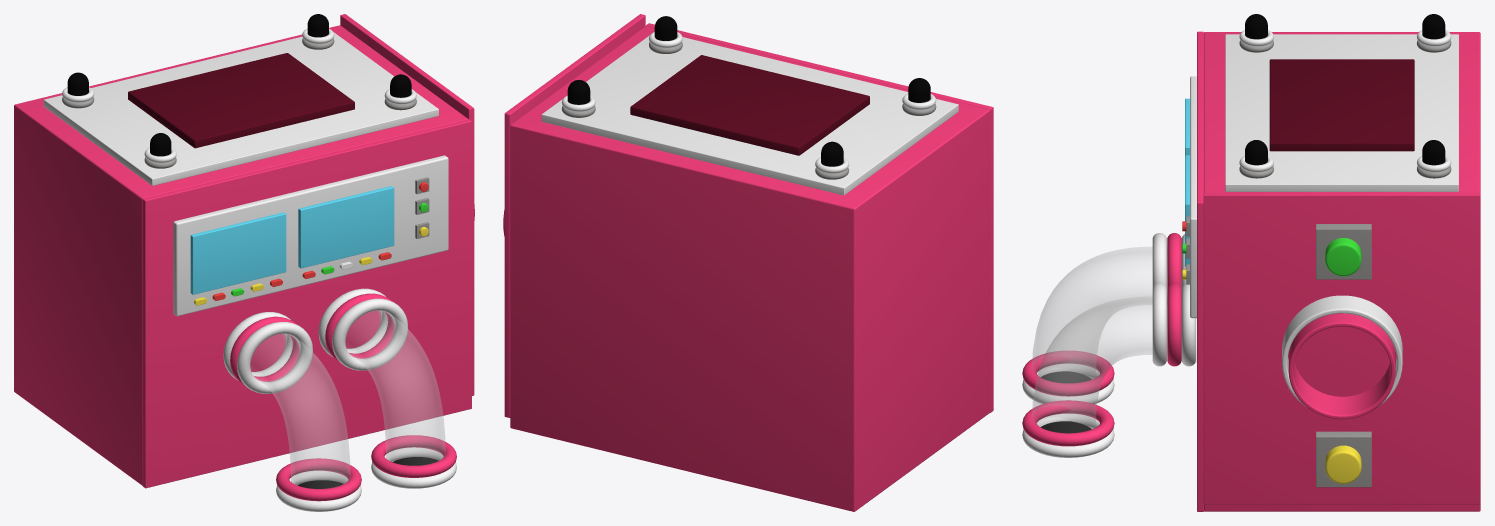
The model's file is machine3.fbx.
3 renders of one model, left to right at view 1: azimuth 30°, elevation 25°; view 2: azimuth 150°, elevation 25°; view 3: azimuth 270°, elevation 25°, orthographic. The views are drawn at different scales.
Visible parts, largest first — view 1: Obj3d66-9320056-645-792, Obj3d66-9320056-646-365, Obj3d66-9320056-643-665, Obj3d66-9320056-642-184, Obj3d66-9320056-559-233, Obj3d66-9320056-568-934, Obj3d66-9320056-576-592, Obj3d66-9320056-641-361, Obj3d66-9320056-640-992, Obj3d66-9320056-644-142, Obj3d66-9320056-573-920, Obj3d66-9320056-581-375 (+8 smaller); view 2: Obj3d66-9320056-646-365, Obj3d66-9320056-643-665, Obj3d66-9320056-559-233, Obj3d66-9320056-644-142, Obj3d66-9320056-645-792; view 3: Obj3d66-9320056-644-142, Obj3d66-9320056-643-665, Obj3d66-9320056-559-233, Obj3d66-9320056-646-365, Obj3d66-9320056-568-934, Obj3d66-9320056-576-592, Obj3d66-9320056-566-623, Obj3d66-9320056-645-792, Obj3d66-9320056-567-712, Obj3d66-9320056-571-896, Obj3d66-9320056-579-243, Obj3d66-9320056-561-256 (+15 smaller).
Boxes of the visible parts, x1,y1,x2,y2 form: Obj3d66-9320056-645-792: [142, 119, 471, 488]; Obj3d66-9320056-646-365: [14, 25, 467, 485]; Obj3d66-9320056-643-665: [43, 32, 438, 185]; Obj3d66-9320056-642-184: [173, 155, 448, 316]; Obj3d66-9320056-559-233: [128, 53, 354, 148]; Obj3d66-9320056-568-934: [345, 311, 445, 465]; Obj3d66-9320056-576-592: [250, 334, 350, 488]; Obj3d66-9320056-641-361: [190, 212, 286, 294]; Obj3d66-9320056-640-992: [298, 186, 394, 268]; Obj3d66-9320056-644-142: [340, 14, 474, 395]; Obj3d66-9320056-573-920: [332, 298, 407, 370]; Obj3d66-9320056-581-375: [237, 322, 312, 393]; Obj3d66-9320056-646-365: [510, 26, 990, 511]; Obj3d66-9320056-643-665: [541, 35, 958, 195]; Obj3d66-9320056-559-233: [630, 55, 869, 155]; Obj3d66-9320056-644-142: [504, 14, 645, 417]; Obj3d66-9320056-645-792: [646, 23, 993, 412]; Obj3d66-9320056-644-142: [1203, 192, 1480, 504]; Obj3d66-9320056-643-665: [1225, 34, 1458, 191]; Obj3d66-9320056-559-233: [1269, 59, 1414, 151]; Obj3d66-9320056-646-365: [1204, 32, 1480, 511]; Obj3d66-9320056-568-934: [1032, 297, 1196, 432]; Obj3d66-9320056-576-592: [1032, 247, 1152, 378]; Obj3d66-9320056-566-623: [1288, 313, 1395, 419]; Obj3d66-9320056-645-792: [1197, 31, 1203, 511]; Obj3d66-9320056-567-712: [1282, 295, 1402, 407]; Obj3d66-9320056-571-896: [1022, 400, 1114, 446]; Obj3d66-9320056-579-243: [1022, 351, 1114, 396]; Obj3d66-9320056-561-256: [1316, 431, 1371, 487].
Bounding box in the file's own units: 127 × 105 × 126.
